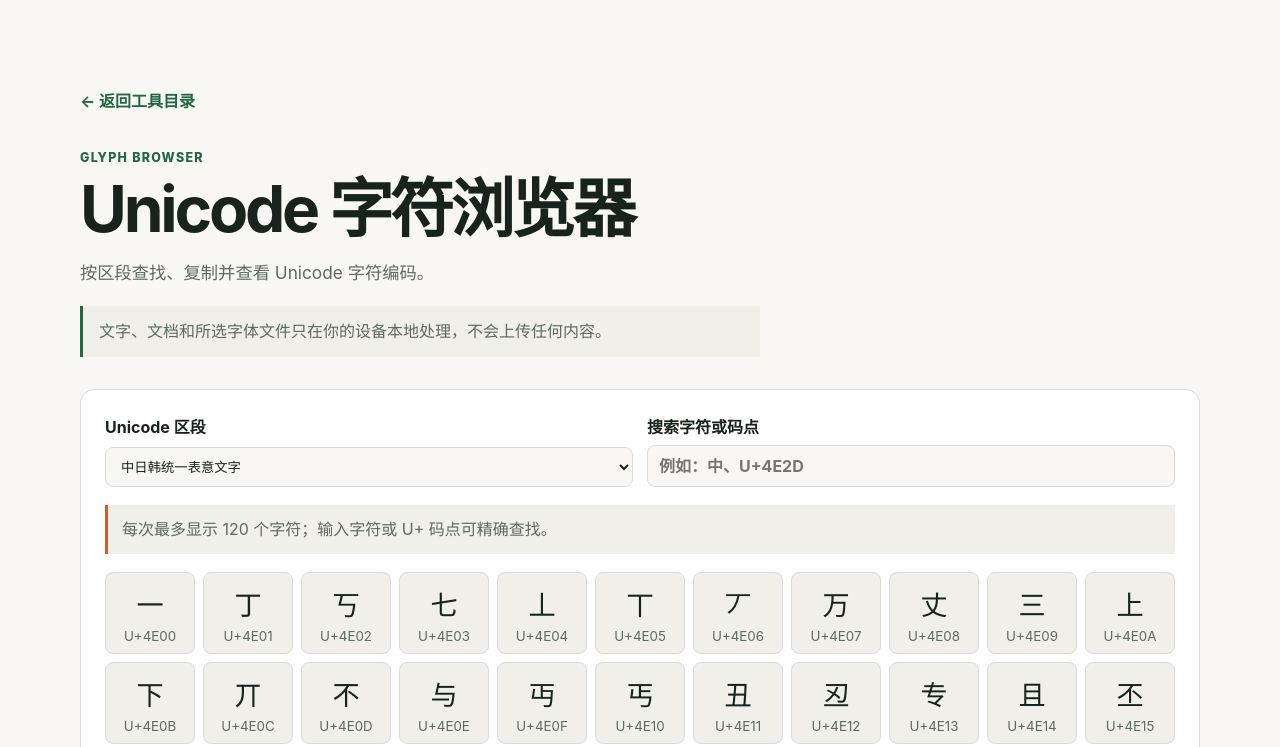
字体、字形和文本反馈 › Unicode 浏览器默认最多渲染 120 个节点并可按码点精确搜索
Type "U+4E2D" into the field labelled "搜索字符或码点". click: (911, 466)
box: [647,445,1175,487]
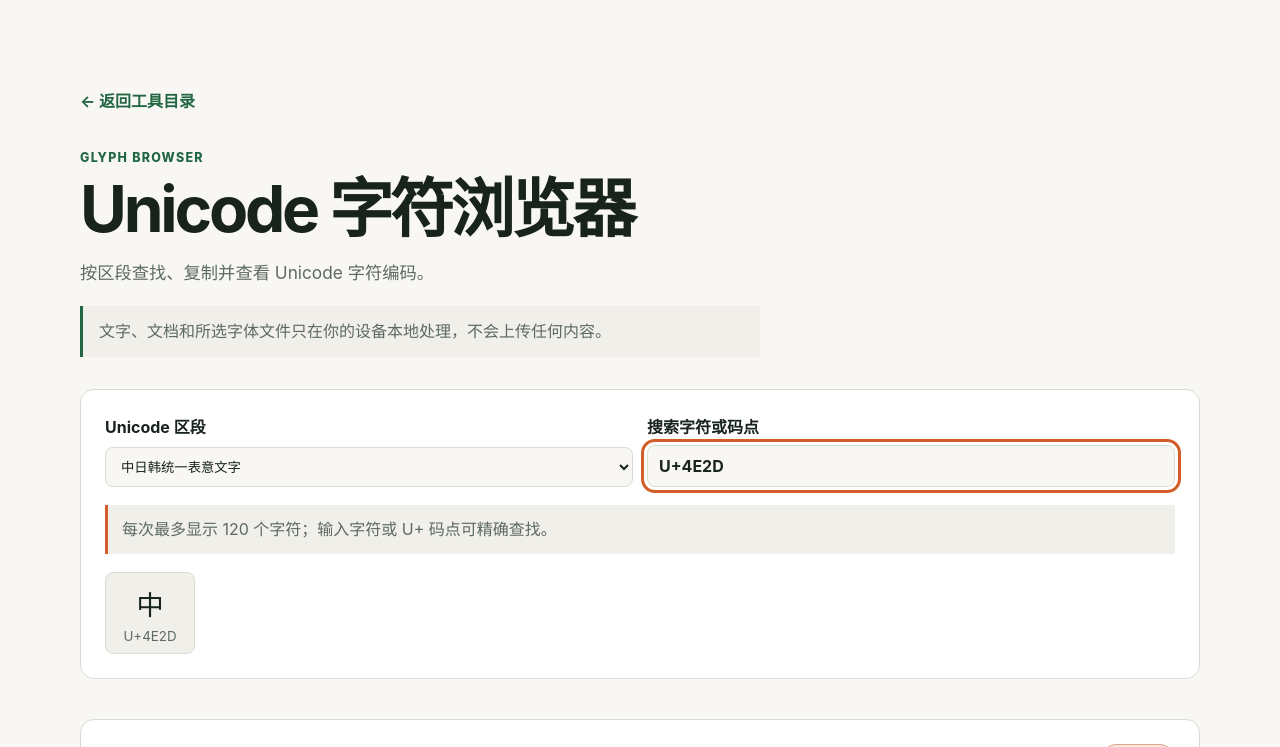
Now the number of buttons with class "glyph-card" is 1, box [105,572,195,654]
